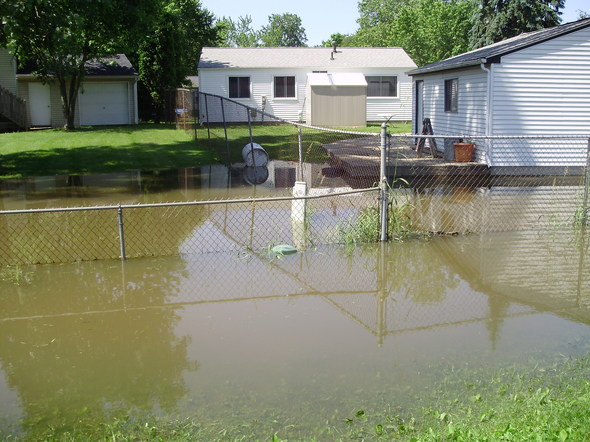building: (423, 23, 586, 170), (195, 42, 427, 122)
container: (240, 140, 268, 167), (453, 138, 475, 166), (445, 133, 462, 163)
sky: (209, 1, 369, 40)
tree: (10, 1, 176, 133)
water: (2, 173, 590, 421)
